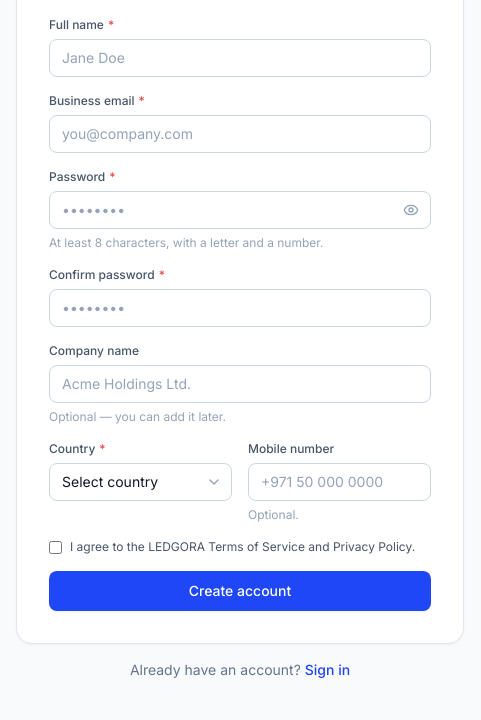
Test: registration › shows validation errors in the registration form
The width and height of the screenshot is (481, 720).
(page scrolled)
What coordinates should you click on to do the following:
click the button "Create account"
I would click on:
 (240, 591)
Its box is [49,571,431,611].
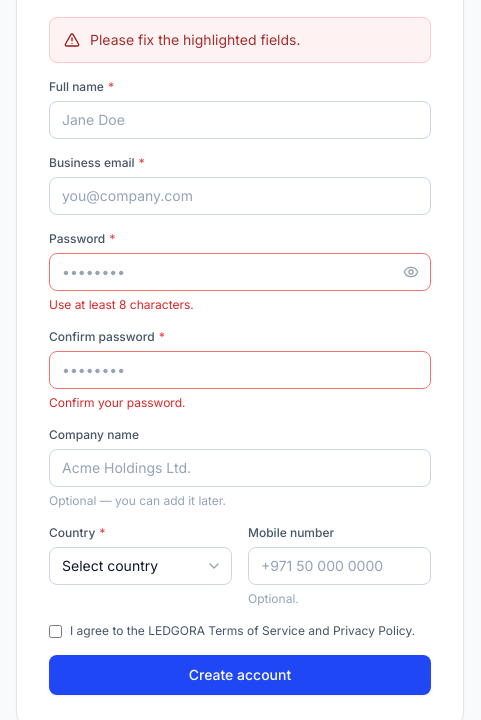
Now the text "Please fix the highlighted fields." is shown, box [90,31,300,48]
